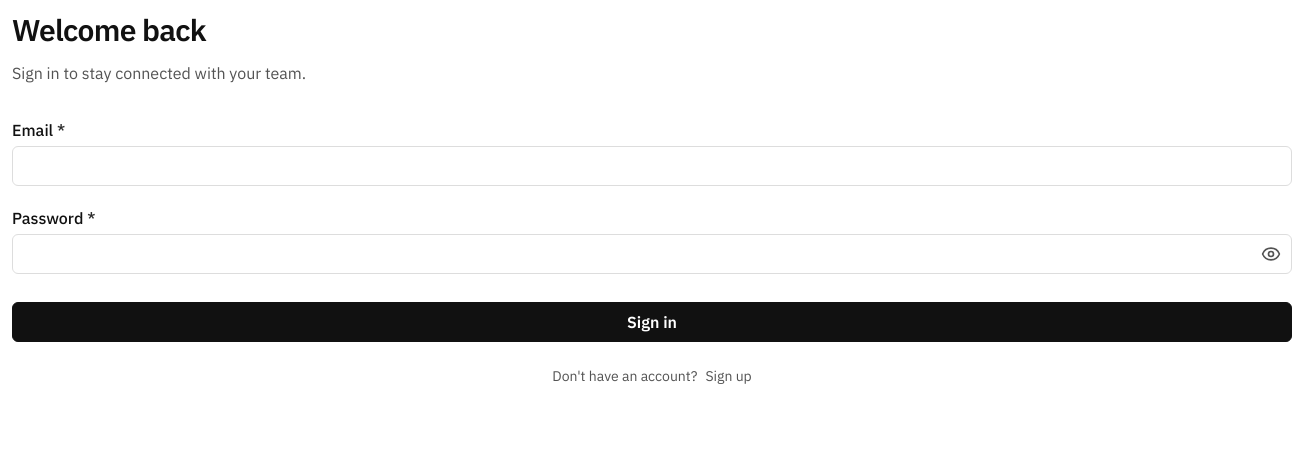
Test: login form › shows a translated server error after rejected credentials
This screenshot has width=1304, height=466.
Type "person@example.com" into the field labelled "Email".
click(652, 166); type("person@example.com")  # box [12,146,1292,186]
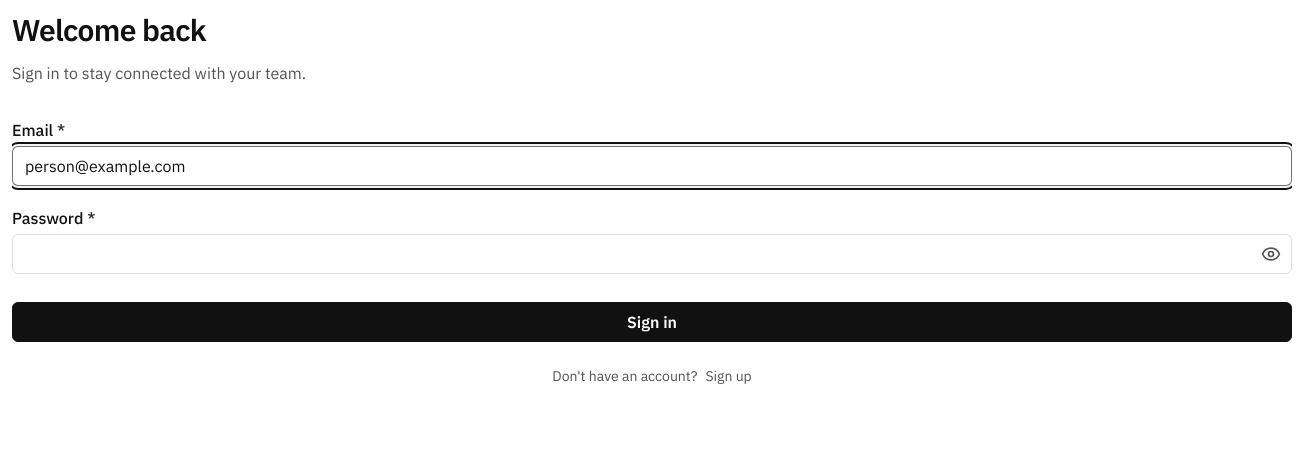
Type "wrong-password" into the password field labelled "Password *".
click(652, 254); type("wrong-password")  # box [13,235,1291,273]
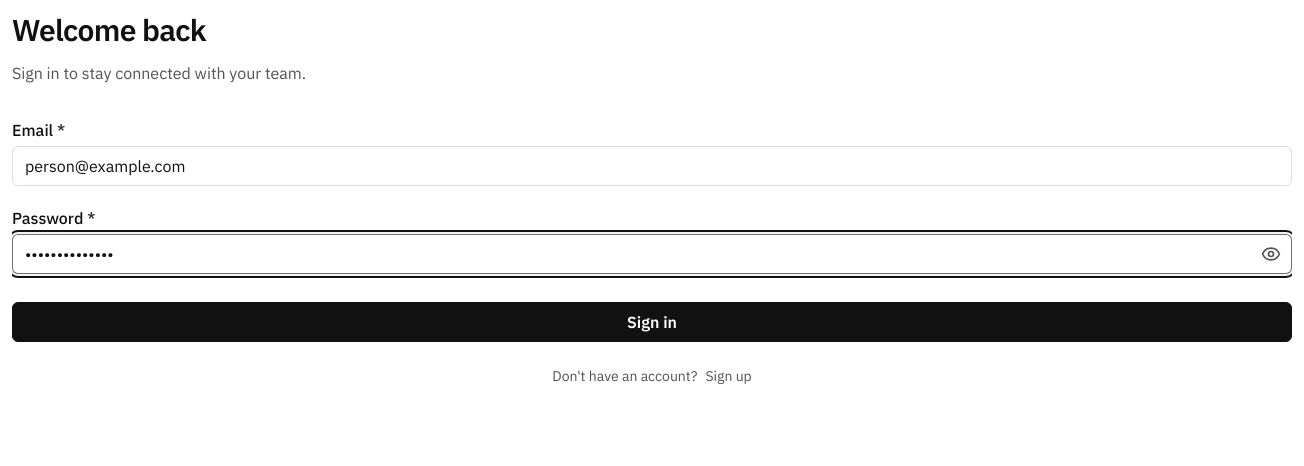
Click the button "Sign in".
click(652, 322)  # box [12,302,1292,342]
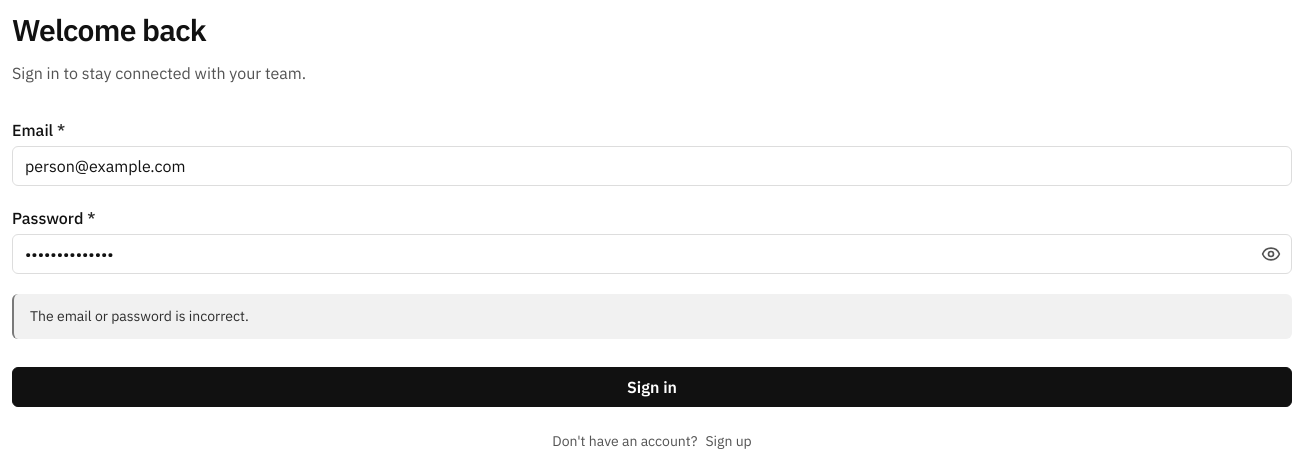
Expected: the message reads "The email or password is incorrect.", [30,307,249,325]
